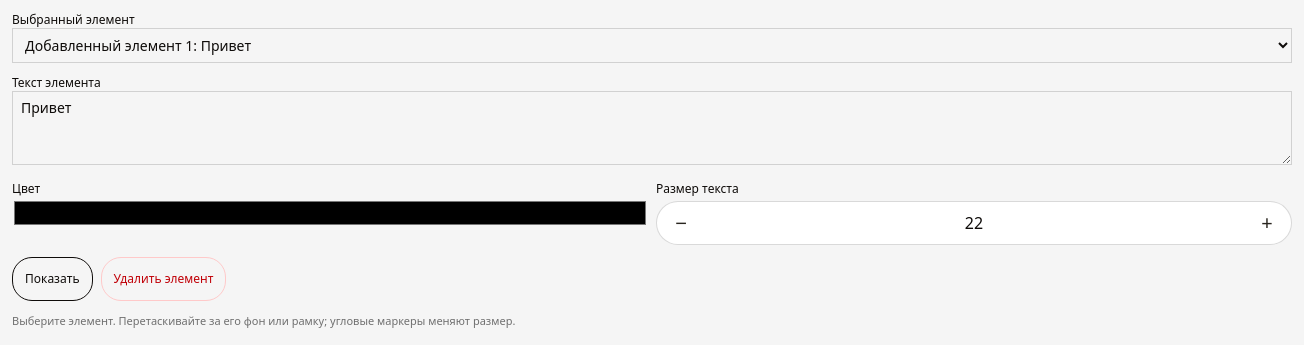
Test: размер текста (BUG-03) › границы 8 и 100 применяются при завершении ввода
Replace the text in the field named "Размер текста" with "5": (974, 223) [705, 202, 1243, 244]
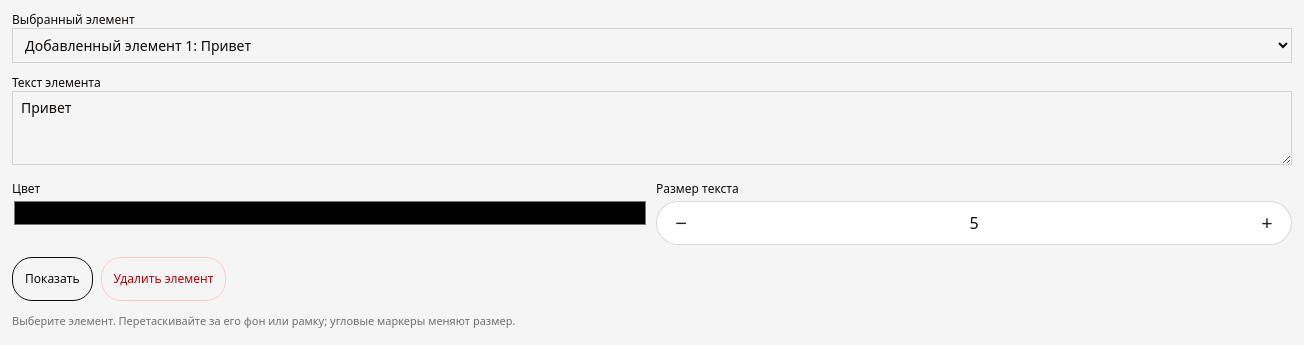
Leave the field named "Размер текста", box [705, 202, 1243, 244]
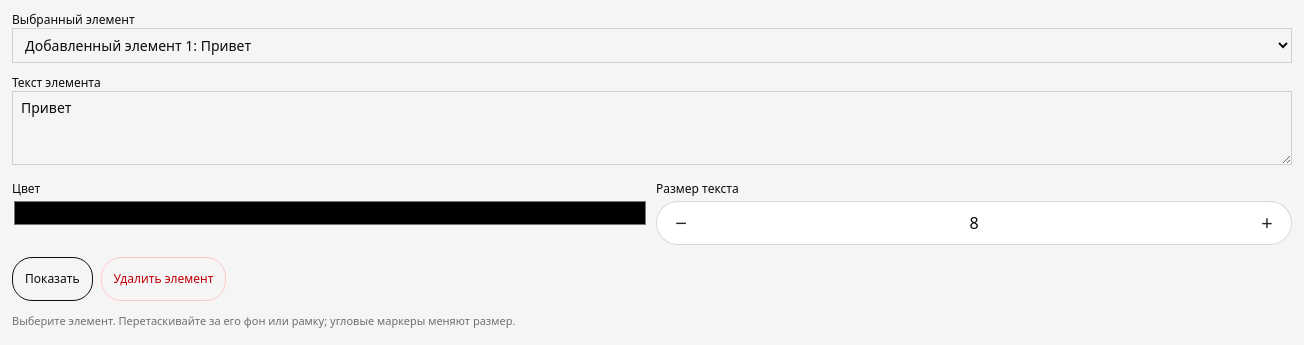
Expected: the field named "Размер текста" holds "8"
Replace the text in the field named "Размер текста" with "250": (974, 223) [705, 202, 1243, 244]
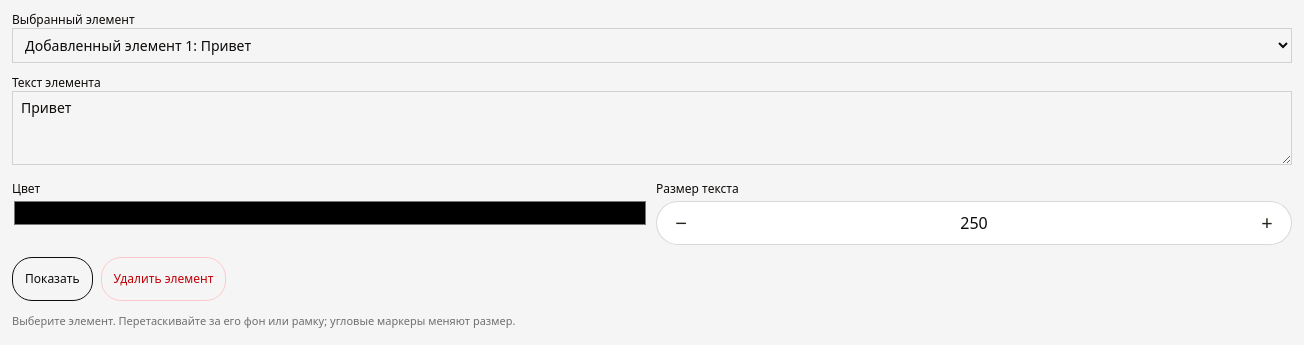
Press Enter in the field named "Размер текста", box [705, 202, 1243, 244]
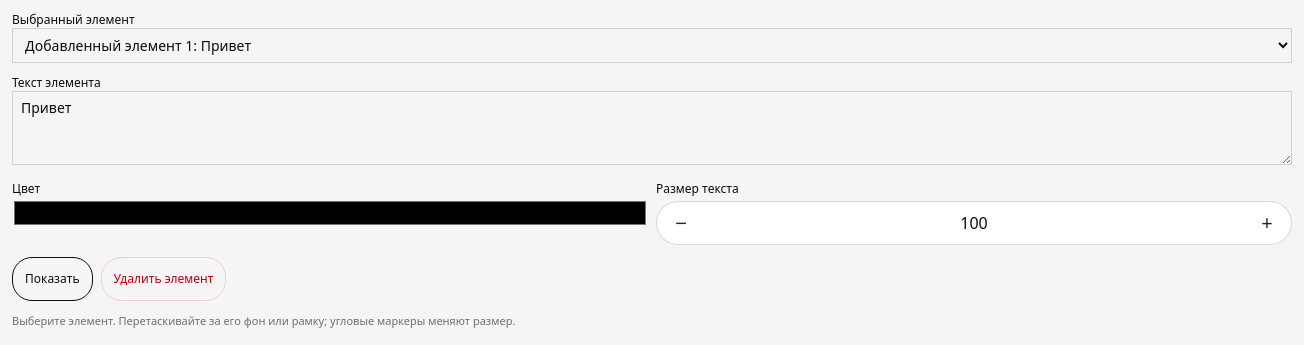
Expected: the field named "Размер текста" holds "100", [705, 202, 1243, 244]
